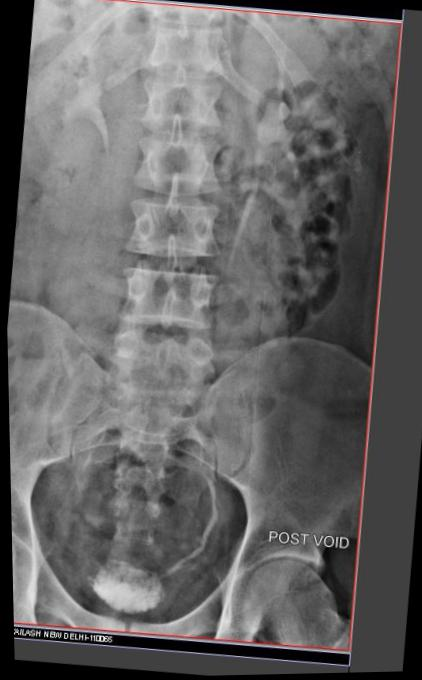bladder: (87, 567, 224, 664)
right kidney: (25, 0, 152, 187)
vertebrae: (153, 49, 262, 132)
